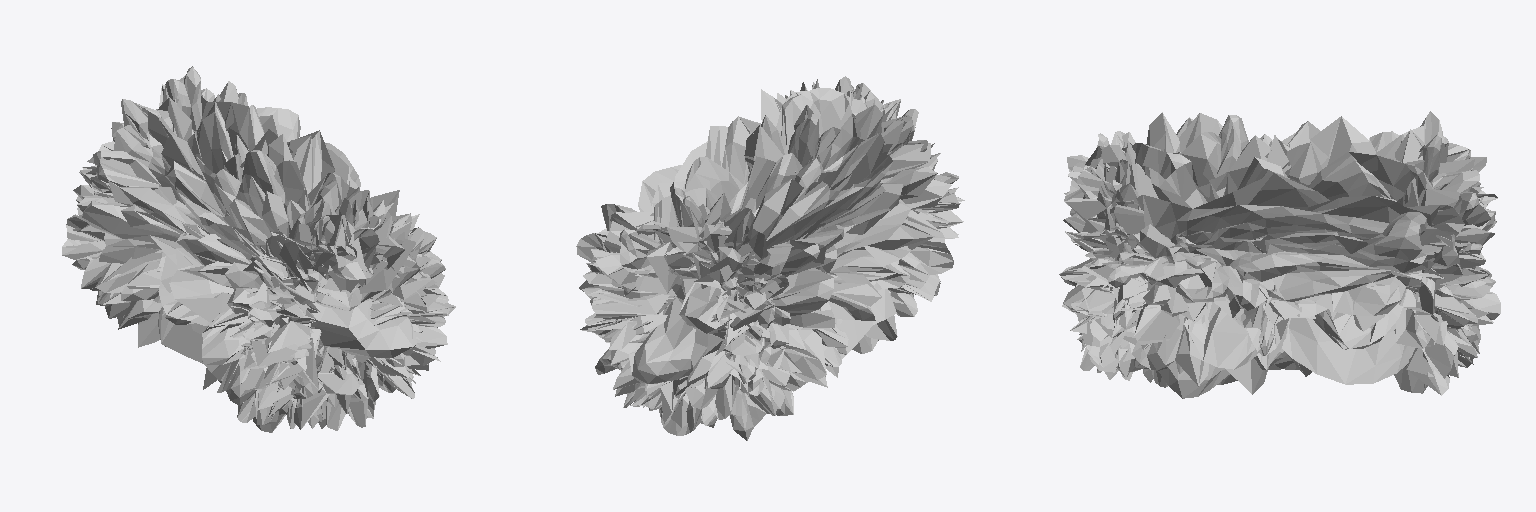
File: coke_can_distort.ref.obj
3 views of the same model, side by side, from view 1: azimuth 30°, elevation 25°; view 2: azimuth 150°, elevation 25°; view 3: azimuth 270°, elevation 25° (orthographic).
Visible parts, largest first — view 1: coke_can.010; view 2: coke_can.010; view 3: coke_can.010.
Boxes of the visible parts, box(x1,y1,x2,y2) form: coke_can.010: box(62, 66, 455, 432); coke_can.010: box(576, 76, 964, 440); coke_can.010: box(1059, 111, 1500, 398).
Bounding box in the file's own units: 0.105 × 0.1042 × 0.1619.